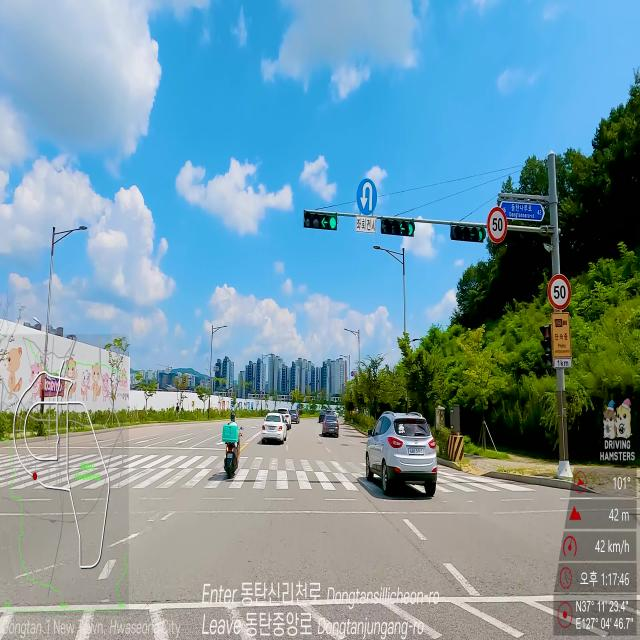Green Light: (406, 222, 414, 236), (476, 228, 484, 242), (329, 216, 336, 229)
